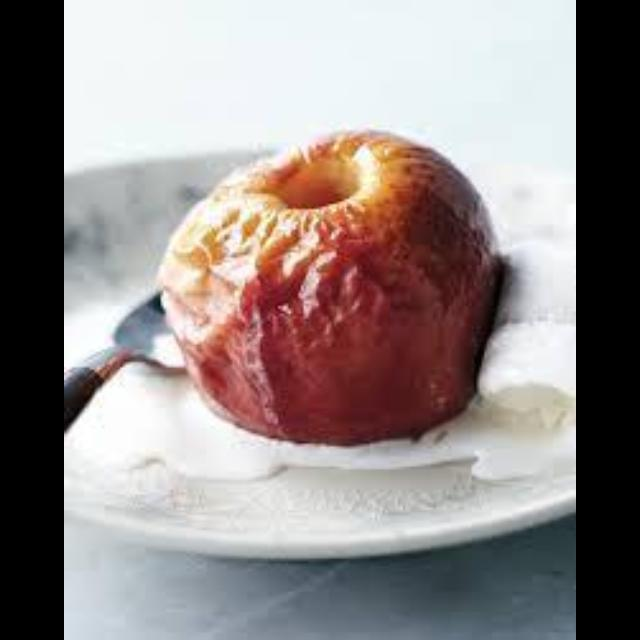apple: (161, 130, 500, 444)
